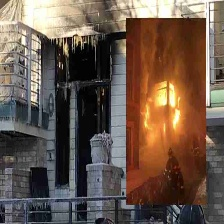fire: (141, 83, 181, 129)
